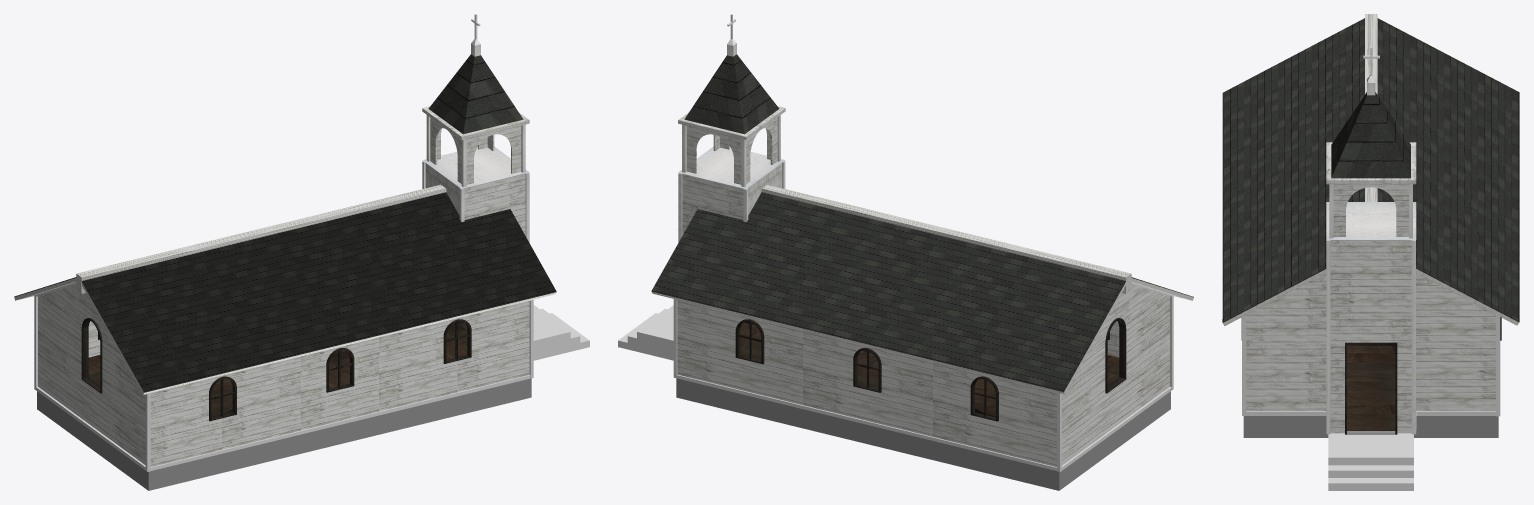
3 views of the same model, side by side, from view 1: azimuth 30°, elevation 25°; view 2: azimuth 150°, elevation 25°; view 3: azimuth 270°, elevation 25° (orthographic). The views are drawn at different scales.
Visible parts, largest first — view 1: Roof, Walls, Cube.004, TowerTop, Roof Support beams, Outer Frame, Windows, Cube.005, corner tower back right, floor, stage floor; view 2: Roof, Walls, Cube.004, TowerTop, Roof Support beams, Outer Frame, Windows, Cube.005, corner tower back right, floor, stage floor; view 3: Roof, Walls, TowerTop, Cube.004, floor, Cube.005, corner tower back right, Outer Frame, Cube.023, Cube.022, Roof Support beams, tower bottom (+1 smaller).
Boxes of the visible parts, <box> form: Roof: <box>14,192,556,394</box>; Walls: <box>38,174,529,466</box>; Cube.004: <box>37,378,531,490</box>; TowerTop: <box>422,14,529,188</box>; Roof Support beams: <box>34,184,446,297</box>; Outer Frame: <box>34,296,533,471</box>; Windows: <box>81,318,471,421</box>; Cube.005: <box>533,305,570,360</box>; corner tower back right: <box>422,161,529,242</box>; floor: <box>329,324,467,388</box>; stage floor: <box>88,355,232,417</box>; Roof: <box>651,192,1193,394</box>; Walls: <box>677,174,1169,466</box>; Cube.004: <box>676,378,1170,490</box>; TowerTop: <box>678,14,785,188</box>; Roof Support beams: <box>761,184,1171,296</box>; Outer Frame: <box>673,295,1173,471</box>; Windows: <box>735,318,1126,421</box>; Cube.005: <box>637,305,673,360</box>; corner tower back right: <box>678,161,785,242</box>; floor: <box>740,324,878,388</box>; stage floor: <box>975,355,1119,417</box>; Roof: <box>1222,18,1519,325</box>; Walls: <box>1246,240,1495,433</box>; TowerTop: <box>1326,47,1416,240</box>; Cube.004: <box>1243,416,1498,437</box>; floor: <box>1347,346,1395,414</box>; Cube.005: <box>1328,433,1413,465</box>; corner tower back right: <box>1326,240,1415,434</box>; Outer Frame: <box>1242,315,1500,432</box>; Cube.023: <box>1328,478,1413,490</box>; Cube.022: <box>1328,465,1413,477</box>; Roof Support beams: <box>1365,14,1377,201</box>; tower bottom: <box>1347,414,1395,430</box>.
Bounding box in the file's own units: 47274 × 31407 × 21656.
Materials: 9 (7 with a texture image).
